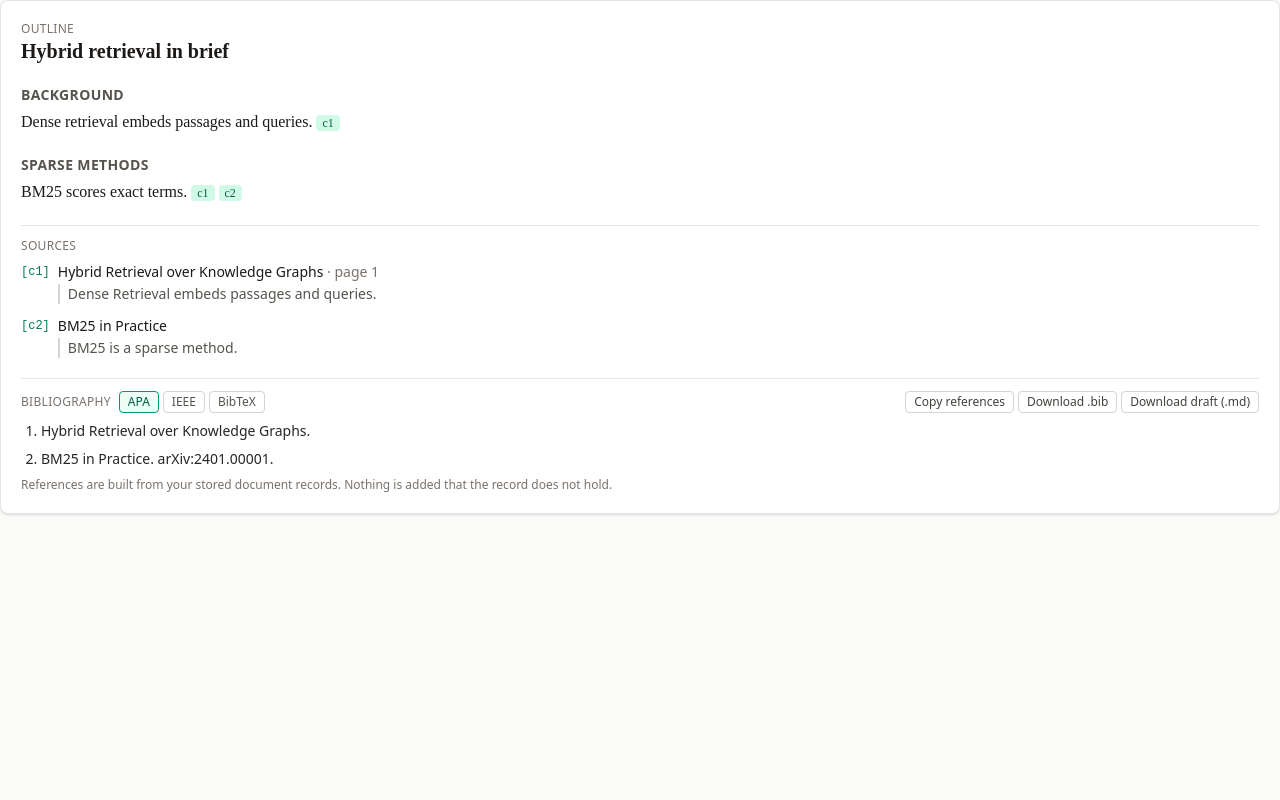
Test: WritingDraft: references › shows the references exactly as sent, in the chosen style
Expected: the list item "BM25 in Practice. arXiv:2401.00001." is shown, [41,449,274,468]
What coordinates should you click on to do the following:
click the button "IEEE"
I would click on:
 (184, 402)
Its box is [163,391,205,413].
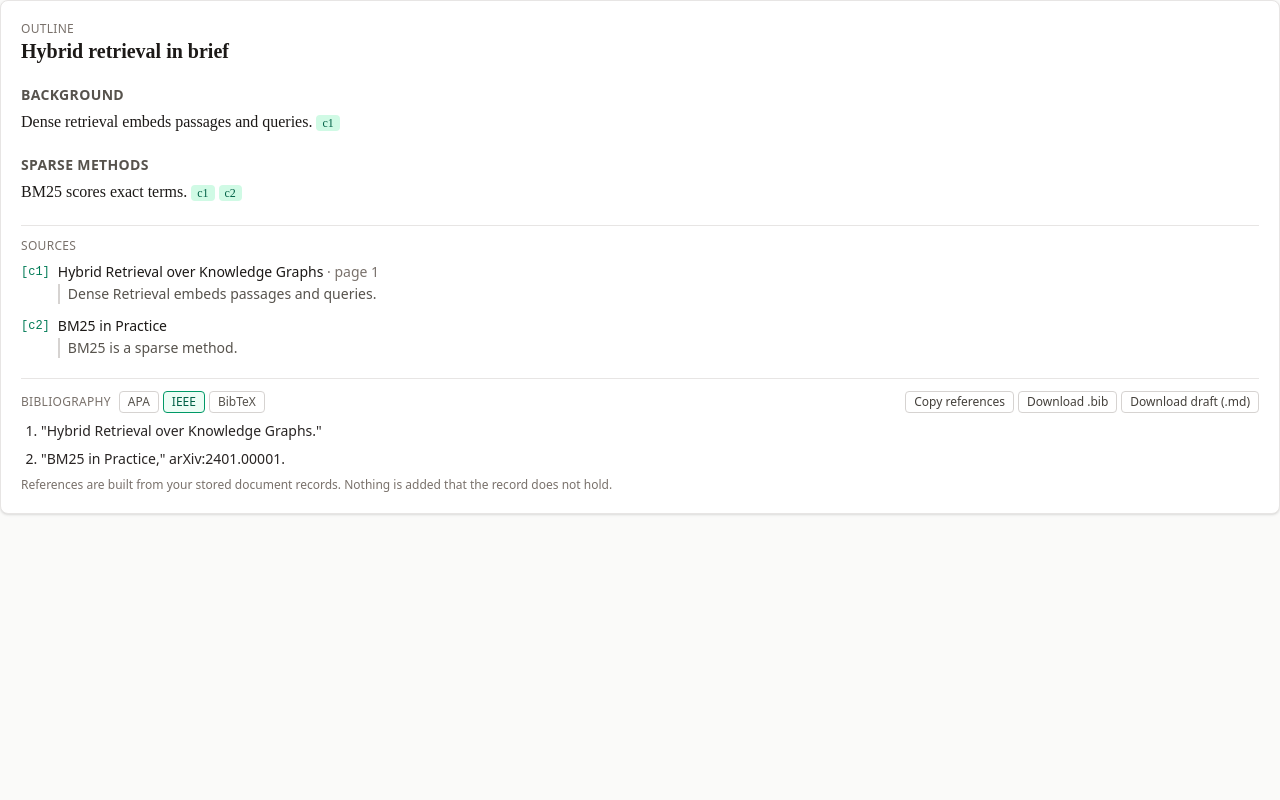
Now the list item "\"BM25 in Practice,\" arXiv:2401.00001." is shown, box [41,449,285,468]
What coordinates should you click on to do the following:
click the button "BibTeX"
I would click on:
 (237, 402)
Its box is [209,391,265,413].
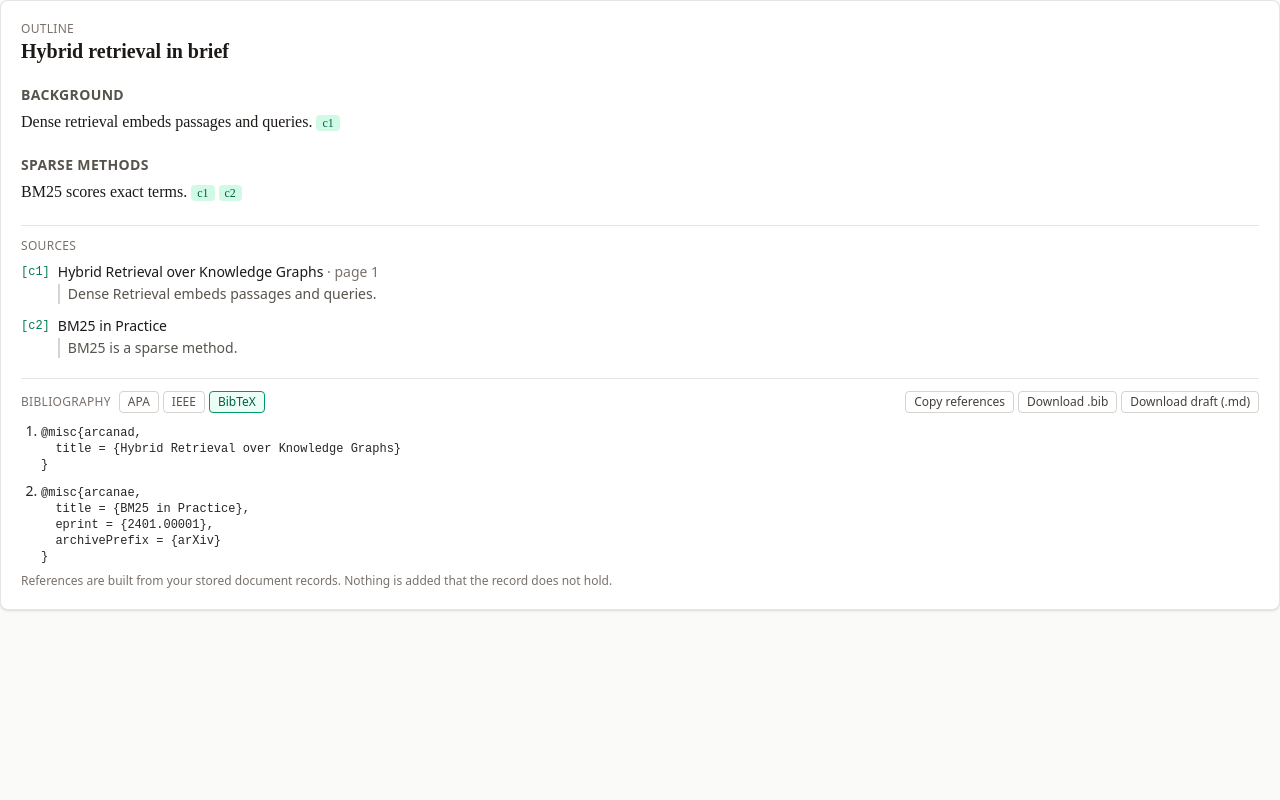
Now the text "@misc{arcanae" is shown, box [41,486,250,564]
